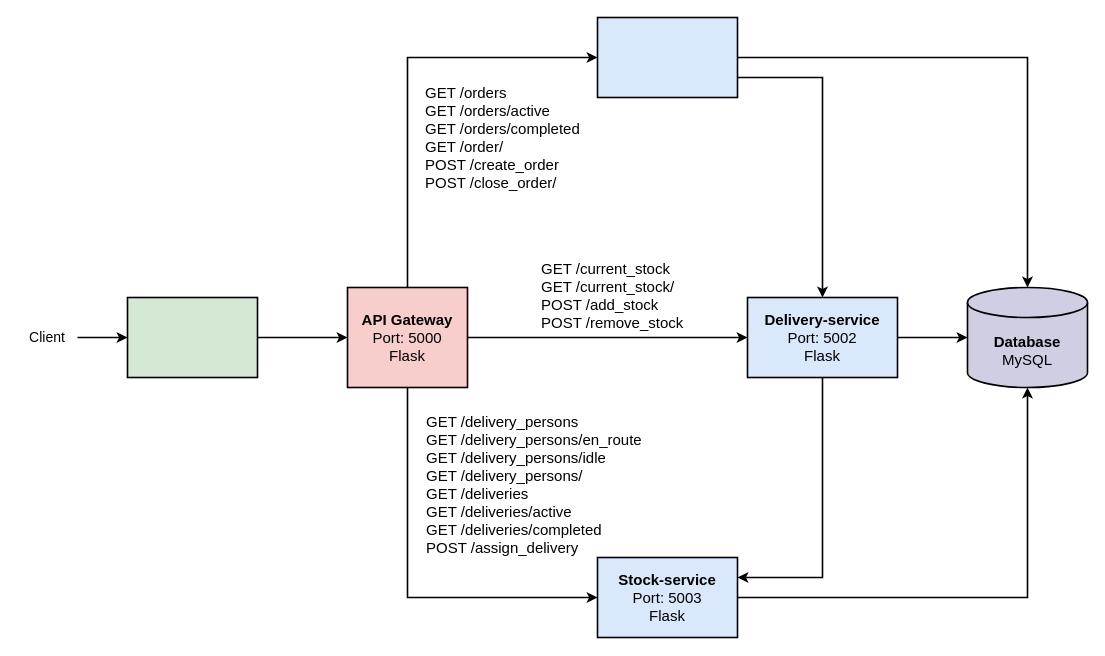
Image size: 1105x656. Some labels were removed from this diagram. The shapes that lost their labels are listed below. From the top down, each one's centre as x and y in pixels, then its label:
pixel 667 57: Order-service Port: 5001 Flask
pixel 192 337: Frontend server Vue.js
